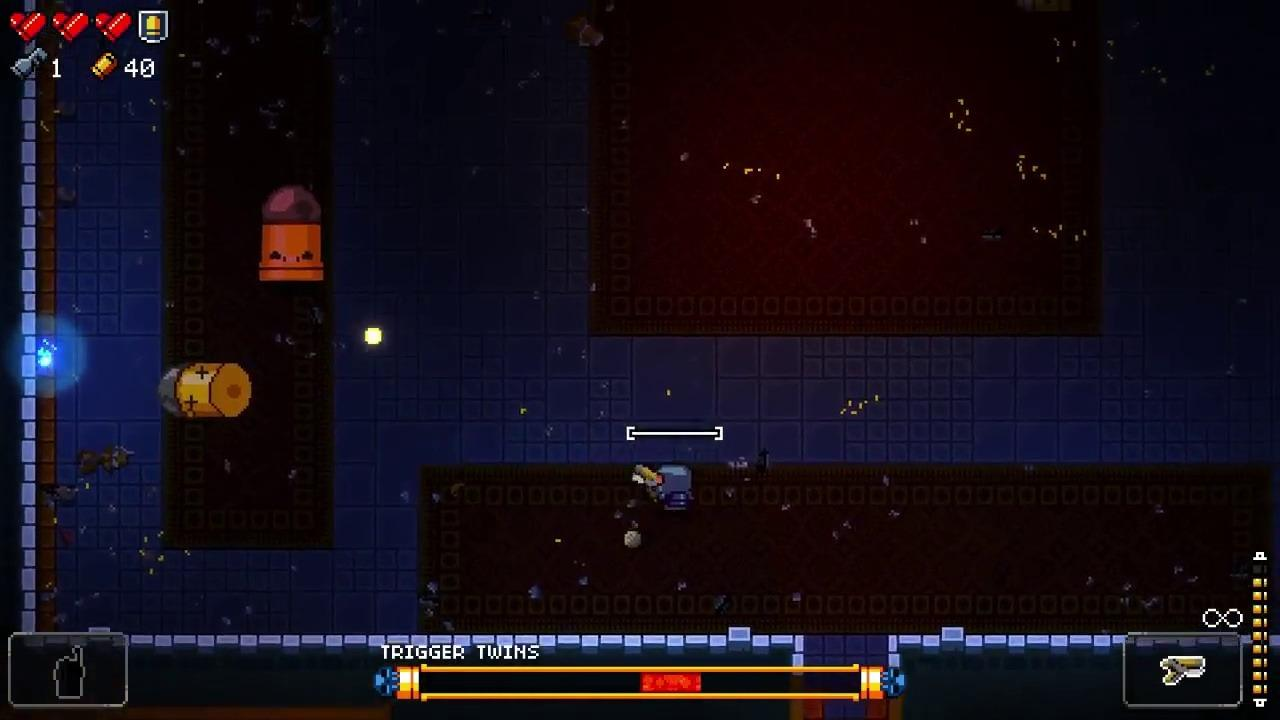boss_smiley: (259, 184, 324, 283)
dead_boss_shades: (159, 363, 251, 419)
player: (651, 466, 695, 512)
